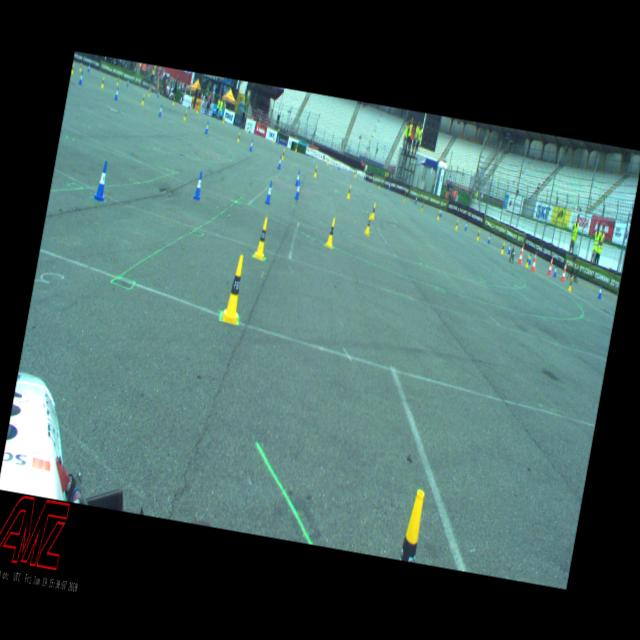blue_cone: (92, 160, 111, 200), (192, 171, 205, 200), (264, 180, 274, 204), (294, 180, 300, 200), (294, 170, 300, 187), (596, 284, 602, 298), (248, 138, 254, 152), (114, 86, 120, 100), (78, 71, 83, 84), (204, 122, 209, 134), (277, 156, 282, 168), (552, 264, 557, 276), (158, 104, 162, 116), (463, 221, 468, 230), (486, 234, 491, 243), (528, 253, 532, 264), (507, 244, 511, 254), (414, 194, 417, 203), (126, 78, 129, 86), (439, 208, 442, 216), (157, 90, 160, 97), (88, 64, 90, 72)
large_orange_cone: (516, 242, 524, 264), (530, 252, 538, 272), (546, 254, 554, 274), (560, 262, 568, 282)
yellow_cone: (220, 253, 249, 324), (399, 488, 426, 562), (253, 216, 270, 260), (325, 218, 337, 246), (364, 212, 373, 235), (371, 202, 376, 220), (346, 184, 352, 198), (567, 276, 573, 290), (524, 254, 530, 267), (100, 75, 106, 88), (500, 242, 506, 254), (313, 165, 318, 178), (140, 93, 145, 105), (282, 148, 286, 160), (183, 110, 187, 121), (454, 219, 458, 230), (476, 229, 480, 240), (78, 62, 82, 72), (71, 64, 75, 74), (436, 210, 440, 220), (420, 202, 424, 211), (402, 192, 406, 201), (294, 144, 298, 152), (237, 132, 240, 142), (116, 76, 119, 85), (172, 96, 175, 105), (196, 106, 199, 114), (148, 88, 150, 96), (354, 170, 356, 177), (378, 181, 380, 188)
